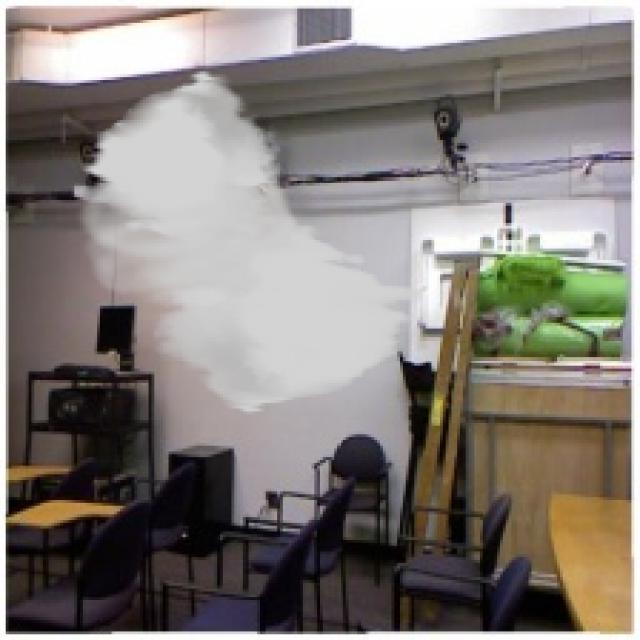smoke: (71, 69, 423, 414)
